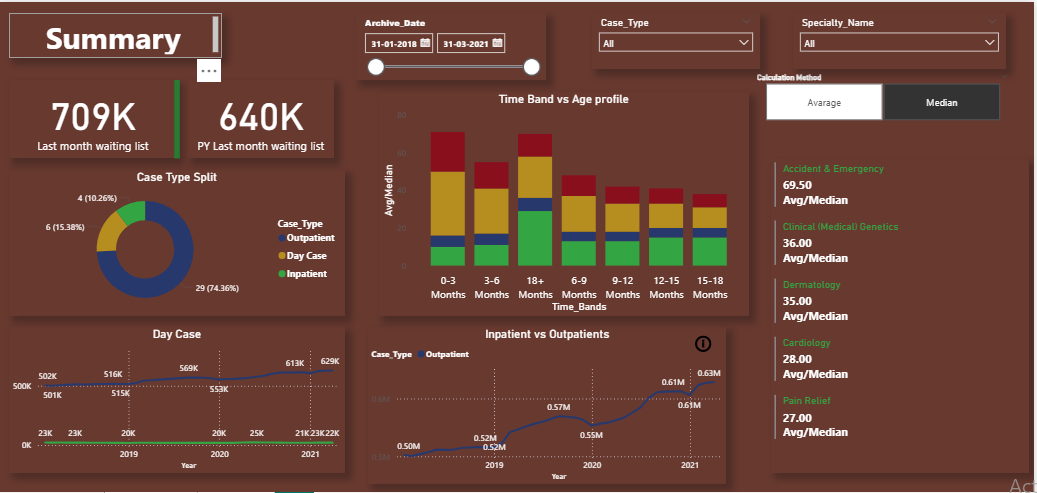

What the dashboard file says about the page in this screenshot:
{"tool":"powerbi","page":{"name":"Summary","canvas":[1480,700],"ordinal":0},"visuals":[{"type":"card","fields":{"Values":["All_data.Last month waiting list"]},"box":[16,112,240,112],"z":0},{"type":"card","fields":{"Values":["All_data.PY Last month waiting list"]},"box":[272,112,208,112],"z":1000},{"type":"slicer","fields":{"Values":["Calculation Table.Calculation Method"]},"box":[1072,96,384,80],"z":2000},{"type":"donutChart","title":"Case Type Split","fields":{"Category":["All_data.Case_Type"],"Y":["All_data.Avg/Median"]},"box":[16,240,480,208],"z":3000},{"type":"columnChart","title":"Time Band vs Age profile","fields":{"Y":["All_data.Avg/Median"],"Series":["All_data.Age_Profile"],"Category":["All_data.Time_Bands"]},"box":[544,128,528,320],"z":4000},{"type":"multiRowCard","fields":{"Values":["All_data.Avg/Median","All_data.Specialty_Name"]},"box":[1104,224,368,448],"z":5000},{"type":"lineChart","title":"Day Case","fields":{"Y":["Sum(All_data.Total)"],"Category":["All_data.Archive_Date.Variation.Date Hierarchy.Year","All_data.Archive_Date.Variation.Date Hierarchy.Quarter","All_data.Archive_Date.Variation.Date Hierarchy.Month","All_data.Archive_Date.Variation.Date Hierarchy.Day"],"Series":["All_data.Case_Type"]},"box":[16,464,480,208],"z":6000},{"type":"lineChart","title":"Inpatient  vs Outpatients","fields":{"Y":["Sum(All_data.Total)"],"Category":["All_data.Archive_Date.Variation.Date Hierarchy.Year","All_data.Archive_Date.Variation.Date Hierarchy.Quarter","All_data.Archive_Date.Variation.Date Hierarchy.Month","All_data.Archive_Date.Variation.Date Hierarchy.Day"],"Series":["All_data.Case_Type"]},"box":[528,464,512,224],"z":7000},{"type":"slicer","fields":{"Values":["All_data.Archive_Date"]},"box":[512,16,272,96],"z":8000},{"type":"slicer","fields":{"Values":["All_data.Case_Type"]},"box":[848,16,240,80],"z":9000},{"type":"slicer","fields":{"Values":["All_data.Specialty_Name"]},"box":[1136,16,304,80],"z":10000},{"type":"textbox","box":[16,16,304,64],"z":11000},{"type":"shape","box":[16,112,480,112],"z":12000},{"type":"actionButton","box":[992,464,32,48],"z":13000}]}

Visuals, with their boxes in screenshot pixels (x1, y1, x2, y2), scaled from the page's 1480x700 canvas onto the 1037x493 screenshot:
card - All_data.Last month waiting list: x1=11 y1=79 x2=179 y2=158
card - All_data.PY Last month waiting list: x1=191 y1=79 x2=336 y2=158
slicer - Calculation Table.Calculation Method: x1=751 y1=68 x2=1020 y2=124
"Case Type Split" donutChart: x1=11 y1=169 x2=348 y2=316
"Time Band vs Age profile" columnChart: x1=381 y1=90 x2=751 y2=316
multiRowCard - All_data.Avg/Median x All_data.Specialty_Name: x1=774 y1=158 x2=1031 y2=473
"Day Case" lineChart: x1=11 y1=327 x2=348 y2=473
"Inpatient  vs Outpatients" lineChart: x1=370 y1=327 x2=729 y2=485
slicer - All_data.Archive_Date: x1=359 y1=11 x2=549 y2=79
slicer - All_data.Case_Type: x1=594 y1=11 x2=762 y2=68
slicer - All_data.Specialty_Name: x1=796 y1=11 x2=1009 y2=68
textbox: x1=11 y1=11 x2=224 y2=56
shape: x1=11 y1=79 x2=348 y2=158
actionButton: x1=695 y1=327 x2=717 y2=361
